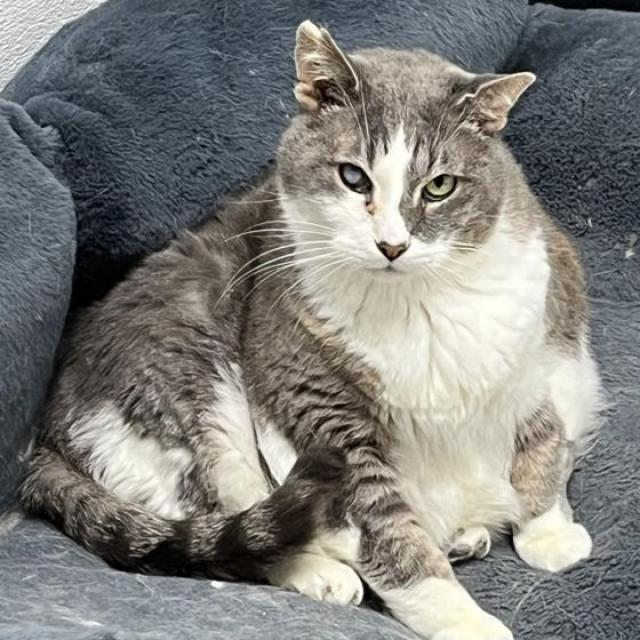domestic_short_hair_cat: (256, 12, 563, 348)
